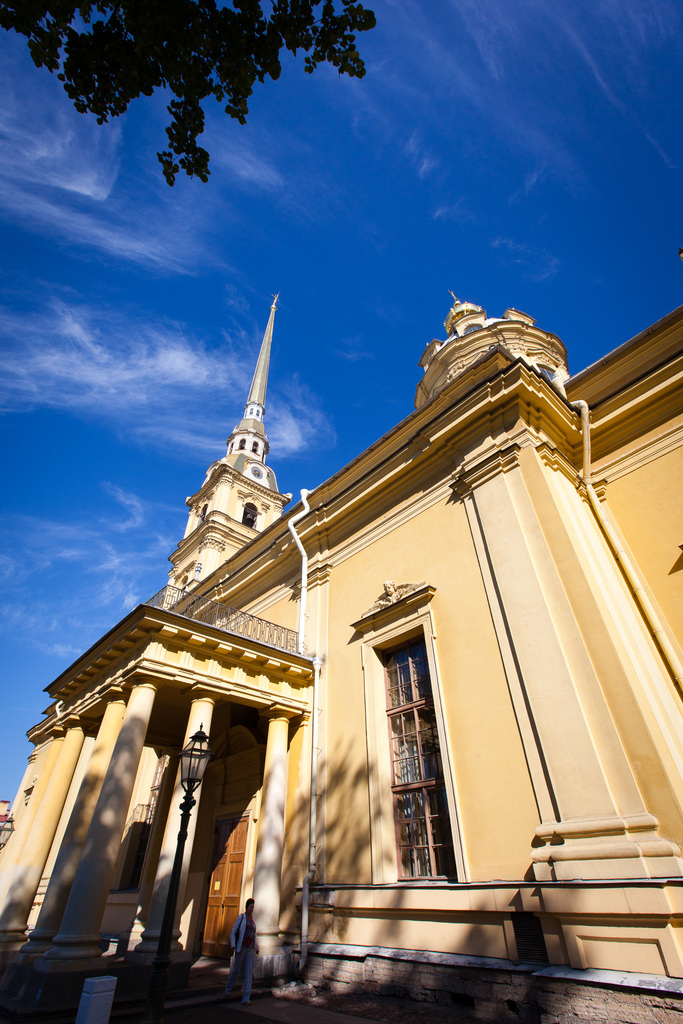Tree: (28, 29, 427, 248)
